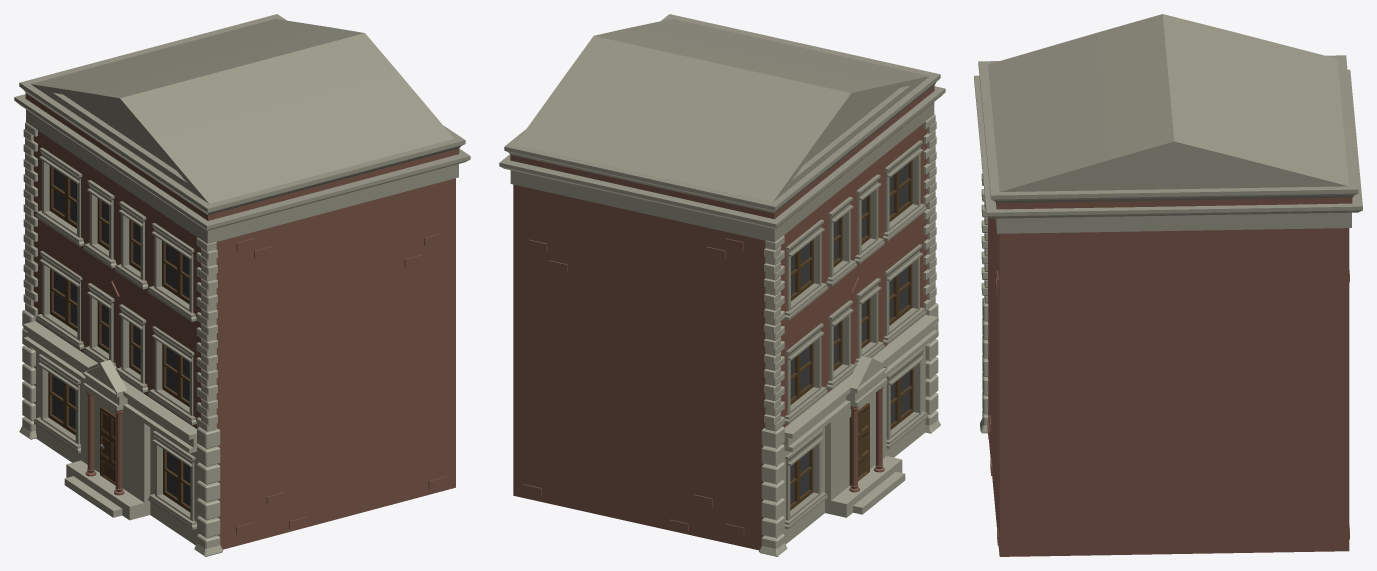
File: building3_big_lev3.glb
3 views of the same model, side by side, from view 1: azimuth 30°, elevation 25°; view 2: azimuth 150°, elevation 25°; view 3: azimuth 270°, elevation 25° (orthographic). The views are drawn at different scales.
Parts seen in each view (by area): view 1: building3_big_lev3; view 2: building3_big_lev3; view 3: building3_big_lev3.
Part boxes in pixels (x1,y1,x2,y2): building3_big_lev3: (14, 14, 470, 556); building3_big_lev3: (499, 14, 945, 556); building3_big_lev3: (974, 14, 1362, 556).
Size of the model in its own units: 9.14 by 11.52 by 9.86.
